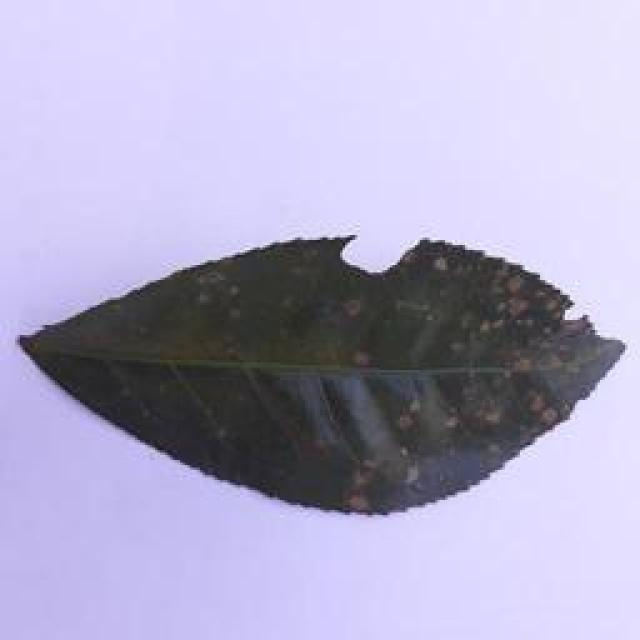Algal Leaf Spot: (12, 210, 630, 516)
